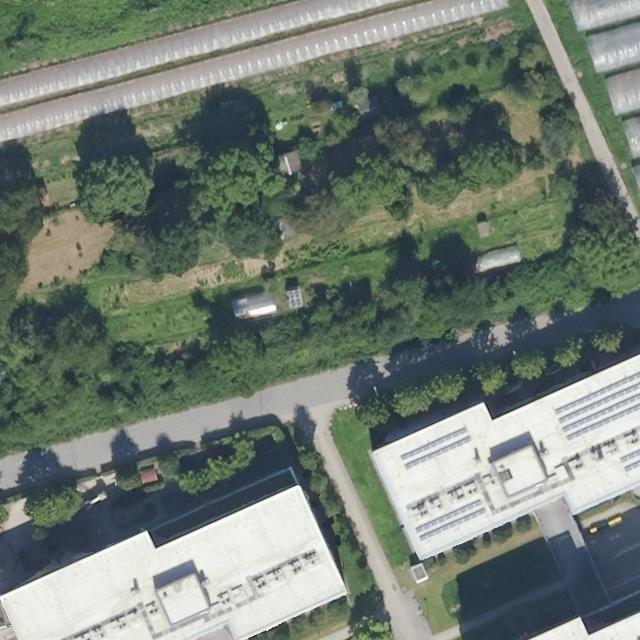PV: (552, 369, 639, 417), (556, 381, 639, 427), (559, 392, 639, 435), (563, 402, 639, 444), (402, 433, 474, 472), (417, 505, 488, 543), (399, 425, 469, 463), (413, 497, 483, 535), (618, 447, 639, 465), (622, 458, 639, 474)
